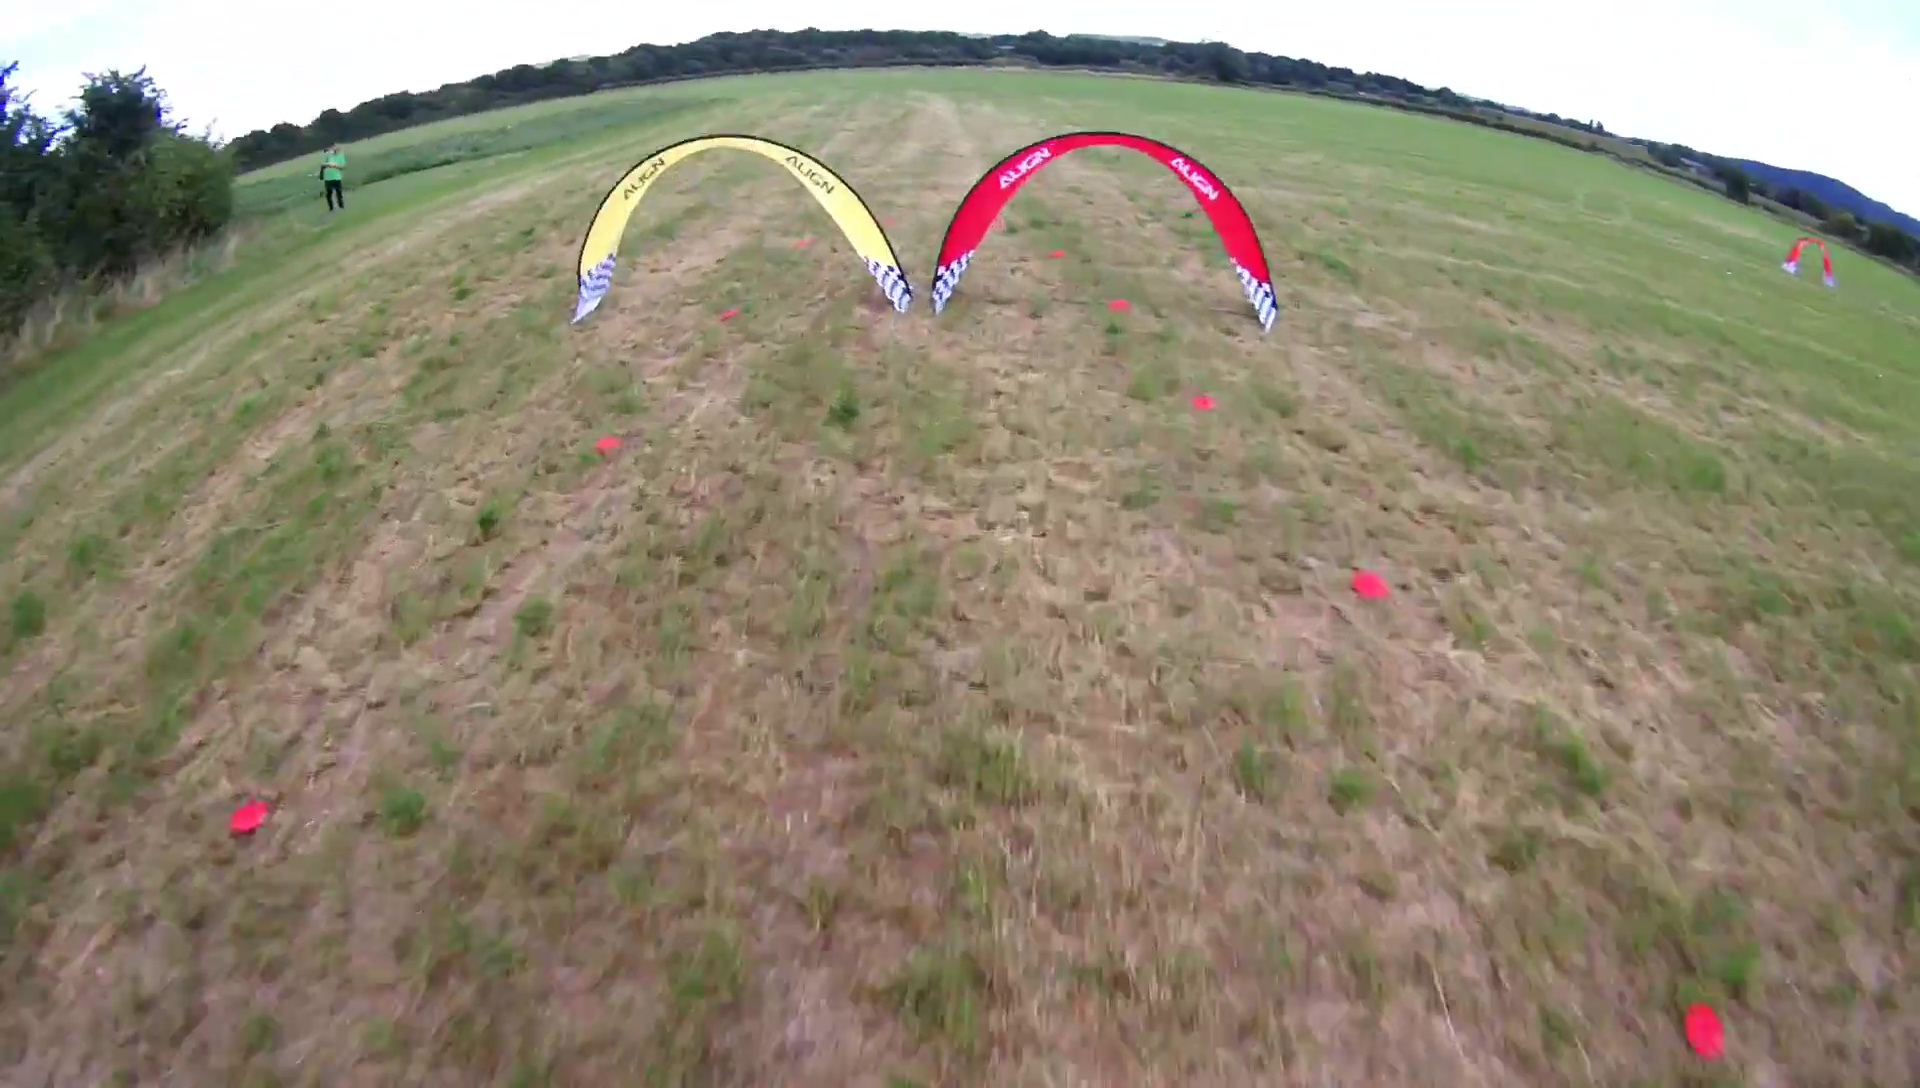gate: (931, 131, 1284, 332), (571, 131, 914, 322), (1776, 233, 1838, 287)
